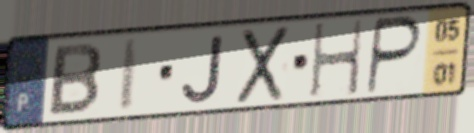B: (45, 41, 105, 119)
H: (308, 17, 366, 101)
I: (117, 35, 144, 114)
J: (179, 31, 228, 106)
P: (363, 14, 426, 98)
X: (233, 22, 293, 108)
